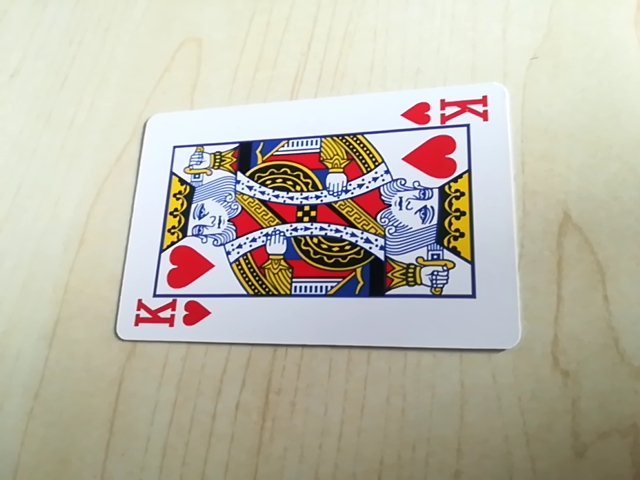hx k: (398, 91, 498, 130), (128, 294, 212, 336)
